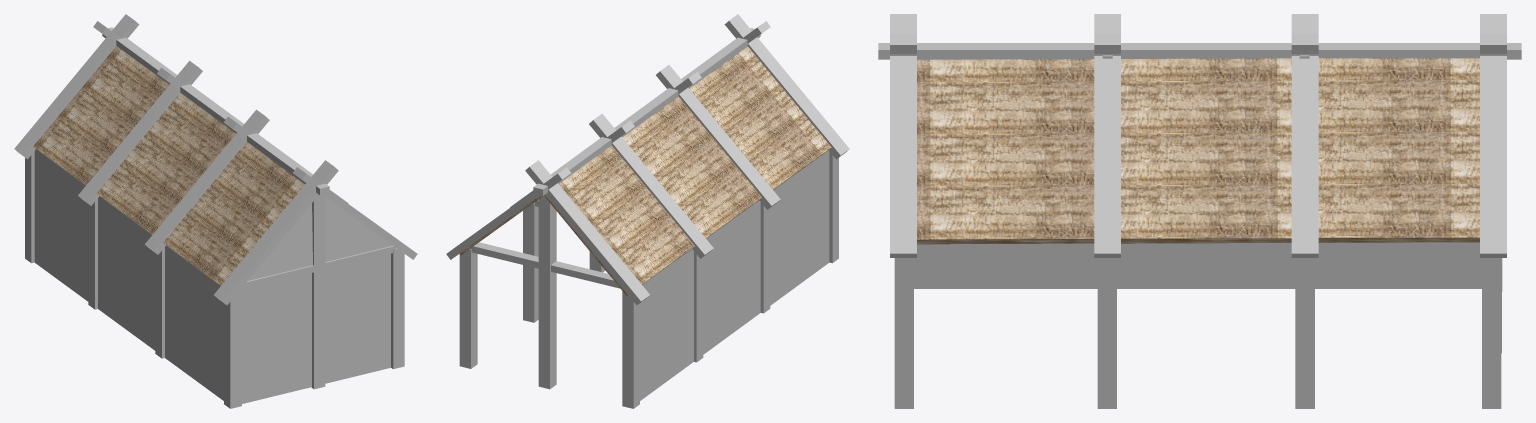
File: horseStable.fbx
The picture shows the model from 3 angles, left to right: view 1: azimuth 30°, elevation 25°; view 2: azimuth 150°, elevation 25°; view 3: azimuth 270°, elevation 25°; orthographic projection. The views are drawn at different scales.
Visible parts, largest first — view 1: stableRoof, stableWall3, stableWall1, stableWall, stableWall2, stableRoofBeam1, stableSupportBeam7, stableRoofBeam8, stableRoofBeam3, stableRoofBeam6, stableRoofBeam4, stableSupportBeam4 (+6 smaller); view 2: stableRoof, stableWall3, stableSupportBeam2, stableRoofBeam3, stableRoofBeam8, stableRoofBeam6, stableRoofBeam4, stableRoofBeam1, stableSupportBeam8, stableSupportBeam, stableSupportBeam9, stableRoofBeam9 (+4 smaller); view 3: stableRoof1, stableWall3, stableRoofBeam8, stableRoofBeam7, stableRoofBeam, stableRoofBeam2, stableRoofBeam5, stableSupportBeam8, stableSupportBeam9, stableSupportBeam10, stableSupportBeam11, stableRoofBeam6.
Boxes of the visible parts, x1,y1,x2,y2 form: stableRoof: (33,46,304,285); stableWall3: (34,149,223,400); stableWall1: (242,273,311,403); stableWall: (325,253,390,383); stableWall2: (248,197,396,280); stableRoofBeam1: (214,160,338,305); stableSupportBeam7: (311,194,325,389); stableRoofBeam8: (102,27,329,195); stableRoofBeam3: (14,14,139,159); stableRoofBeam6: (78,60,202,205); stableRoofBeam4: (145,109,269,254); stableSupportBeam4: (224,288,241,408); stableRoof: (544,46,831,295); stableWall3: (640,150,829,400); stableSupportBeam2: (538,196,556,389); stableRoofBeam3: (525,160,649,305); stableRoofBeam8: (533,28,760,195); stableRoofBeam6: (589,113,713,258); stableRoofBeam4: (656,65,780,209); stableRoofBeam1: (724,14,849,159); stableSupportBeam8: (459,249,477,368); stableSupportBeam: (622,291,639,408); stableSupportBeam9: (523,203,538,322); stableRoofBeam9: (470,242,619,288); stableRoof1: (917,58,1479,244); stableWall3: (914,242,1481,288); stableRoofBeam8: (878,43,1521,59); stableRoofBeam7: (1291,14,1318,257); stableRoofBeam: (890,14,916,257); stableRoofBeam2: (1480,14,1506,257); stableRoofBeam5: (1094,14,1120,257); stableSupportBeam8: (1482,258,1501,408); stableSupportBeam9: (1295,258,1314,408); stableSupportBeam10: (1097,258,1116,408); stableSupportBeam11: (894,258,913,408); stableRoofBeam6: (1291,34,1318,54).
Size of the model in its own units: 5.14 by 5.52 by 9.92.
